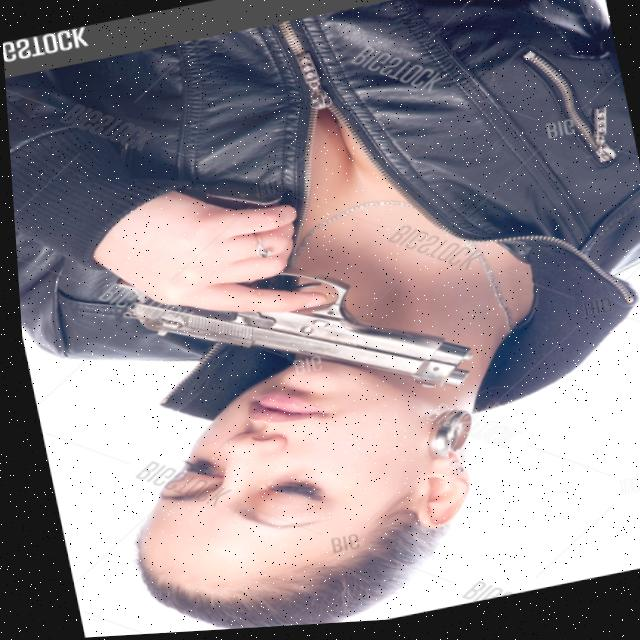pistol: (109, 237, 479, 452)
